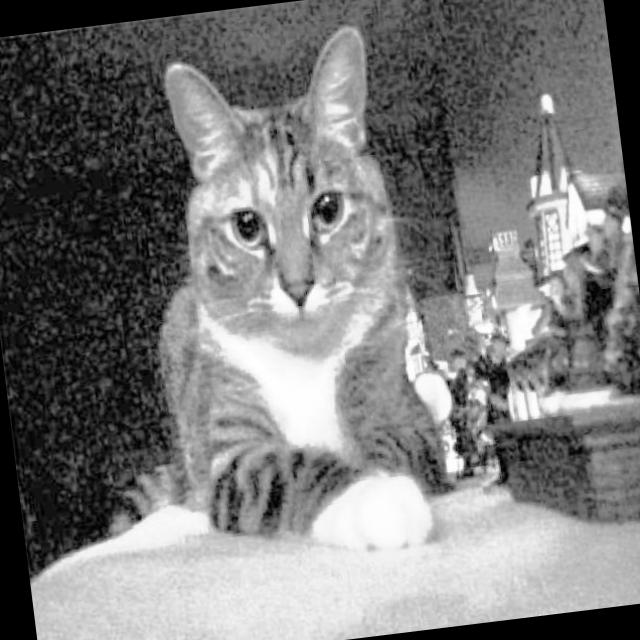Cat: (44, 11, 465, 590)
